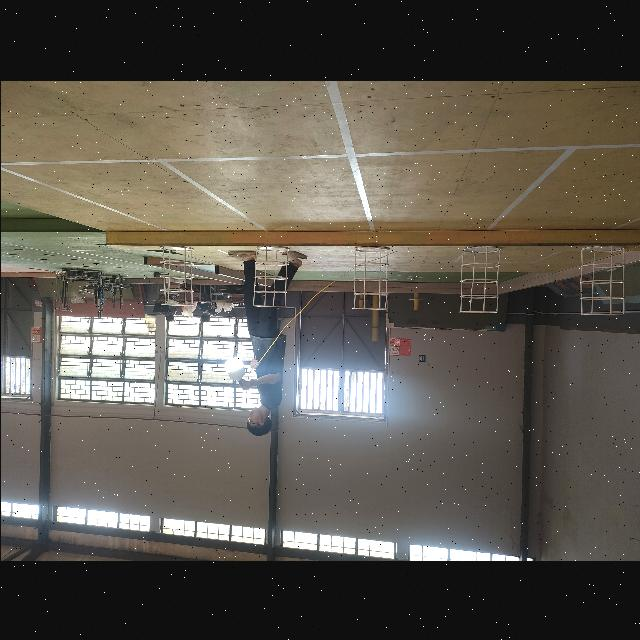S: (452, 242, 508, 314), (246, 242, 298, 316), (576, 244, 624, 318), (154, 243, 198, 309), (348, 247, 390, 311)
